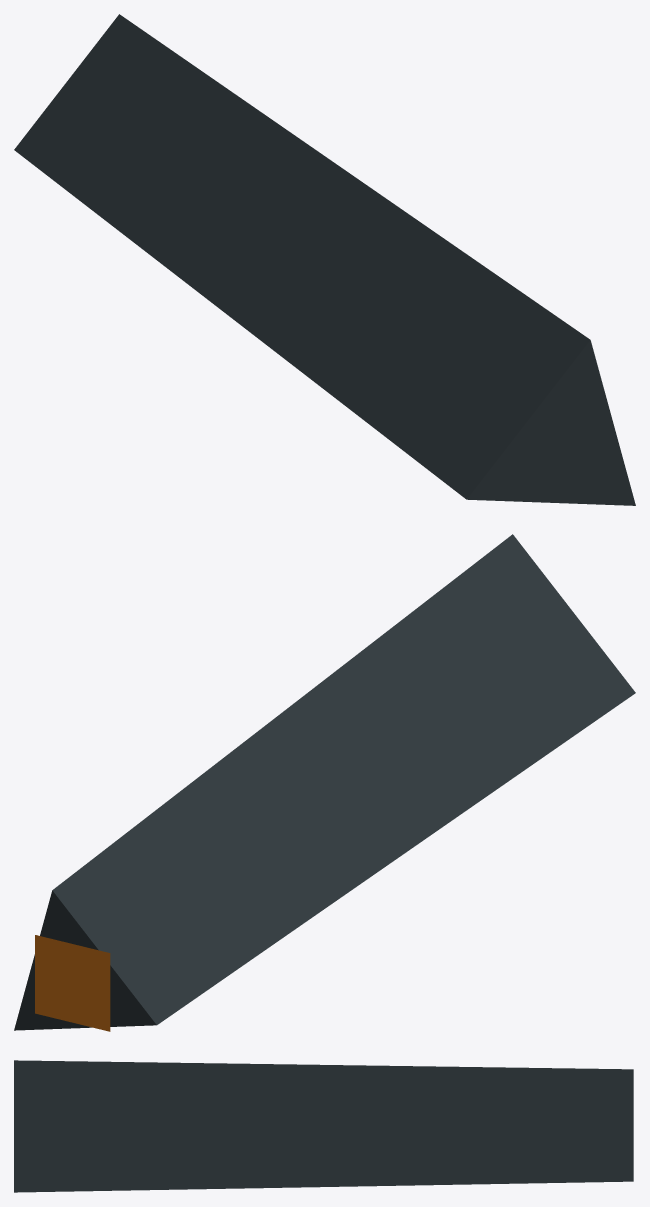
3 renders of one model, top to bottom at view 1: azimuth 30°, elevation 25°; view 2: azimuth 150°, elevation 25°; view 3: azimuth 270°, elevation 25°, orthographic. The views are drawn at different scales.
Visible parts, largest first — view 1: mount; view 2: mount; view 3: mount.
Boxes of the visible parts, <box> form: mount: <box>14,14,635,505</box>; mount: <box>14,534,635,1031</box>; mount: <box>14,1060,633,1192</box>.
Size of the model in its own units: 1.67 by 1.67 by 8.03.
